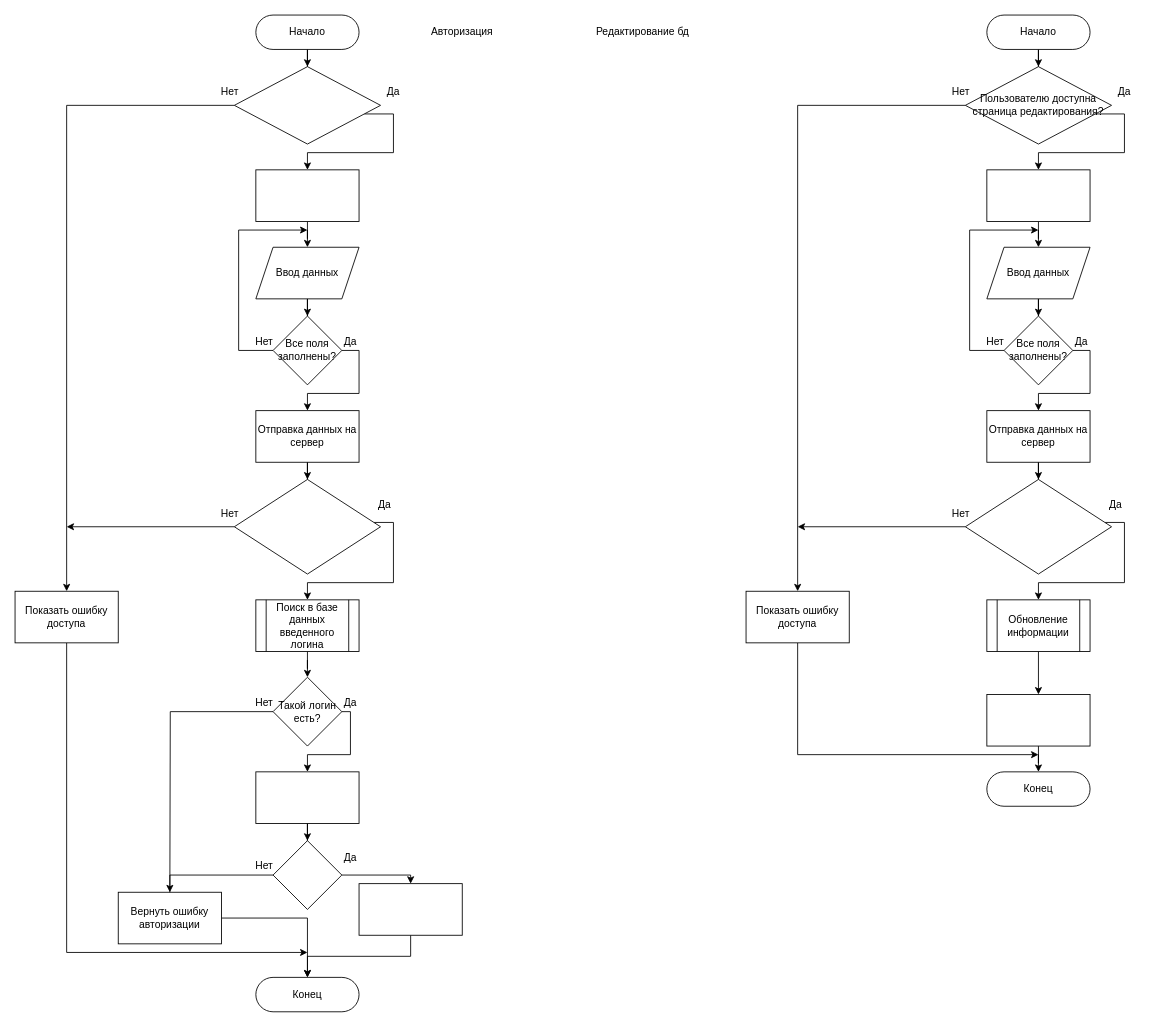
This 1157x1027 diagram has some shape labels left out. Each missing label, with the box of its shape:
Вернуть успех авторизации: (358, 883, 462, 935)
Вывод обновленной информации: (986, 694, 1090, 746)
Пароль совпадает?: (272, 840, 342, 909)
Переход на страницу авторизации: (255, 169, 359, 221)
Переход на страницу редактирования: (986, 169, 1090, 221)
Пользователю доступен запрос авторизации?: (233, 479, 381, 574)
Пользователю доступен запрос редактирования?: (964, 479, 1112, 574)
Пользователю доступна страница авторизации?: (233, 66, 381, 144)
Сопоставление паролей: (255, 771, 359, 823)
